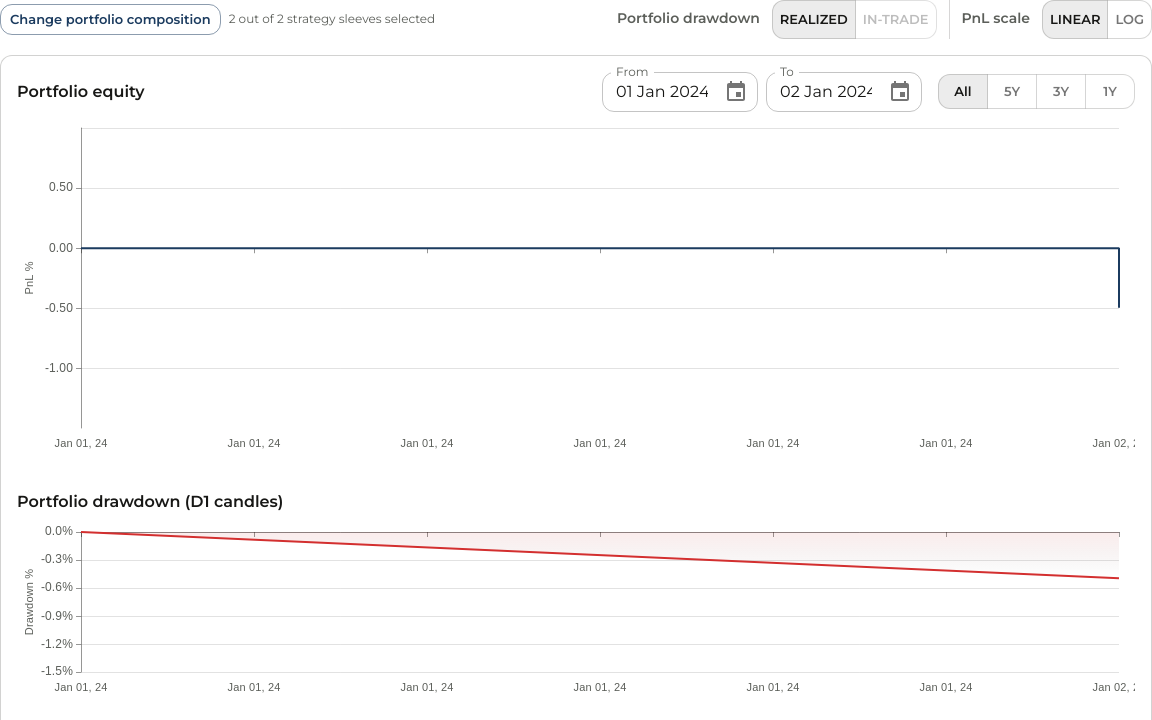
PortfolioTab › keeps composition draft edits from rerendering the portfolio charts
The width and height of the screenshot is (1152, 720).
Click the button "Change portfolio composition". click: (110, 19)
box: [0, 4, 221, 35]
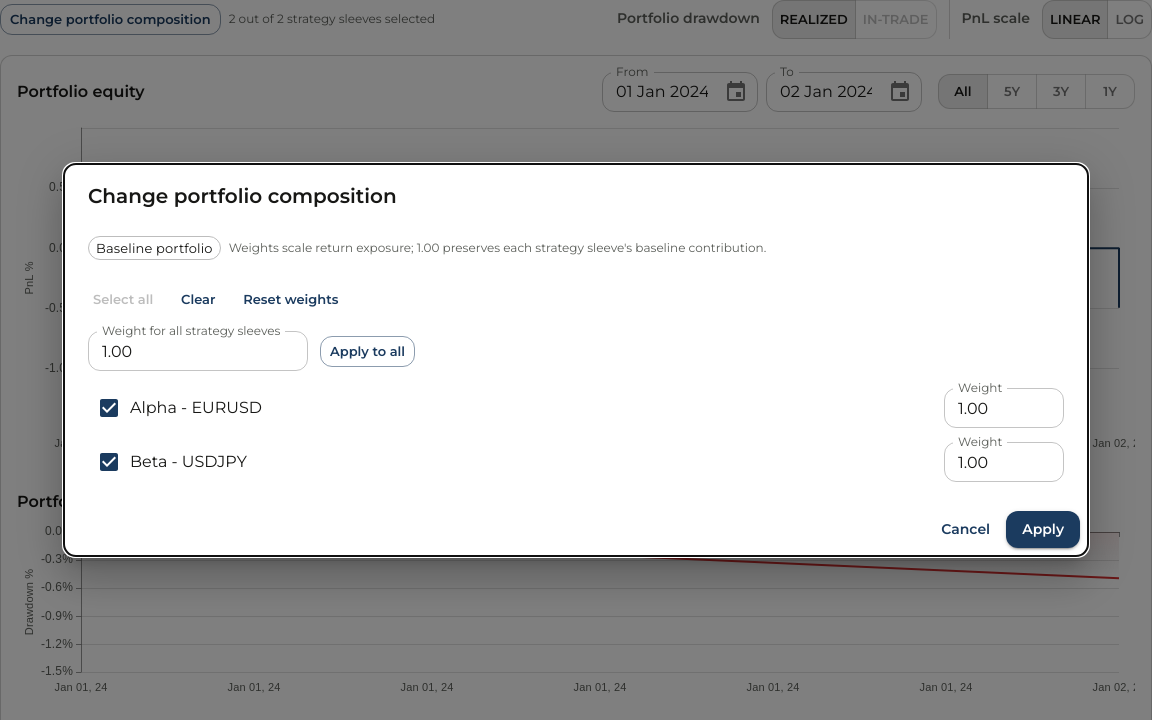
Replace the text in the 1st field labelled "Weight" with "1.25". click: (1004, 408)
box: [944, 388, 1064, 428]
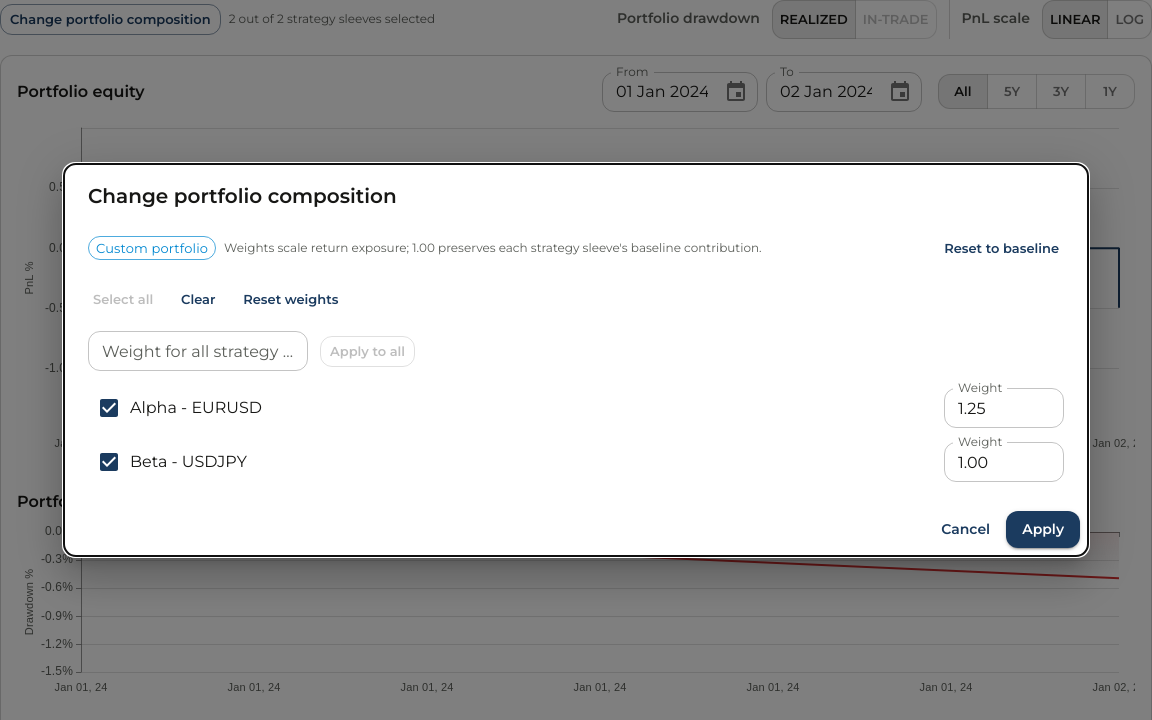
Click the button "Cancel". click: (966, 529)
box: [933, 511, 998, 548]
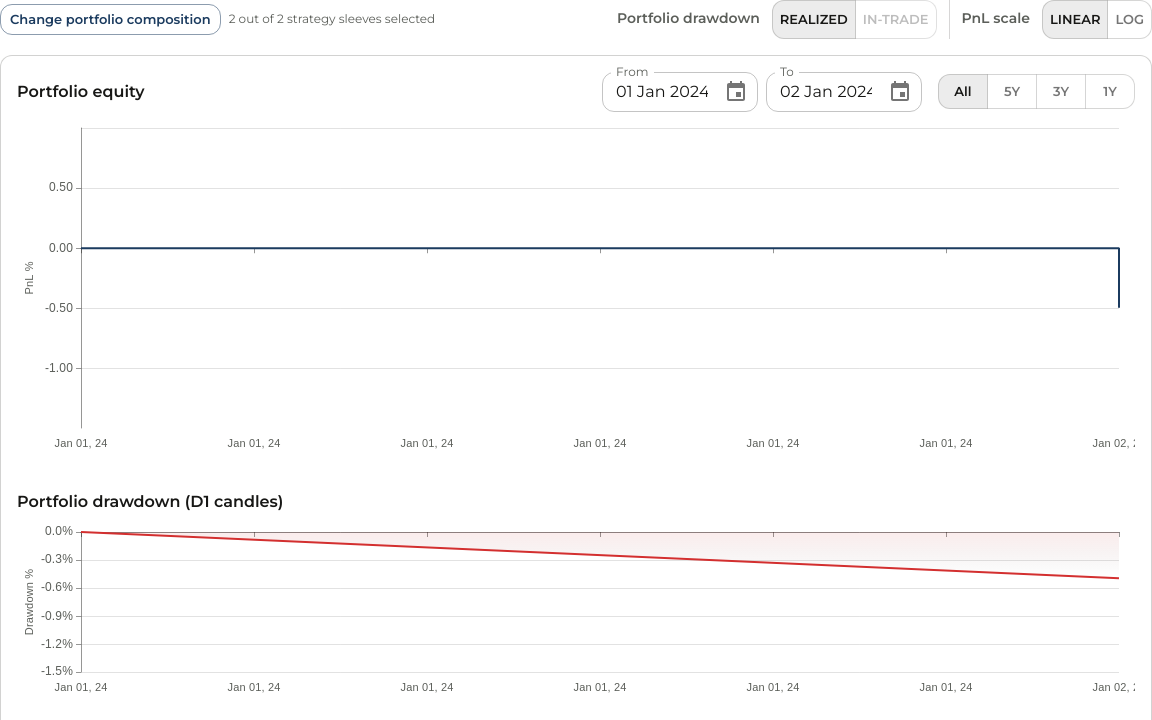
Click the button "Change portfolio composition". click: (110, 19)
box: [0, 4, 221, 35]
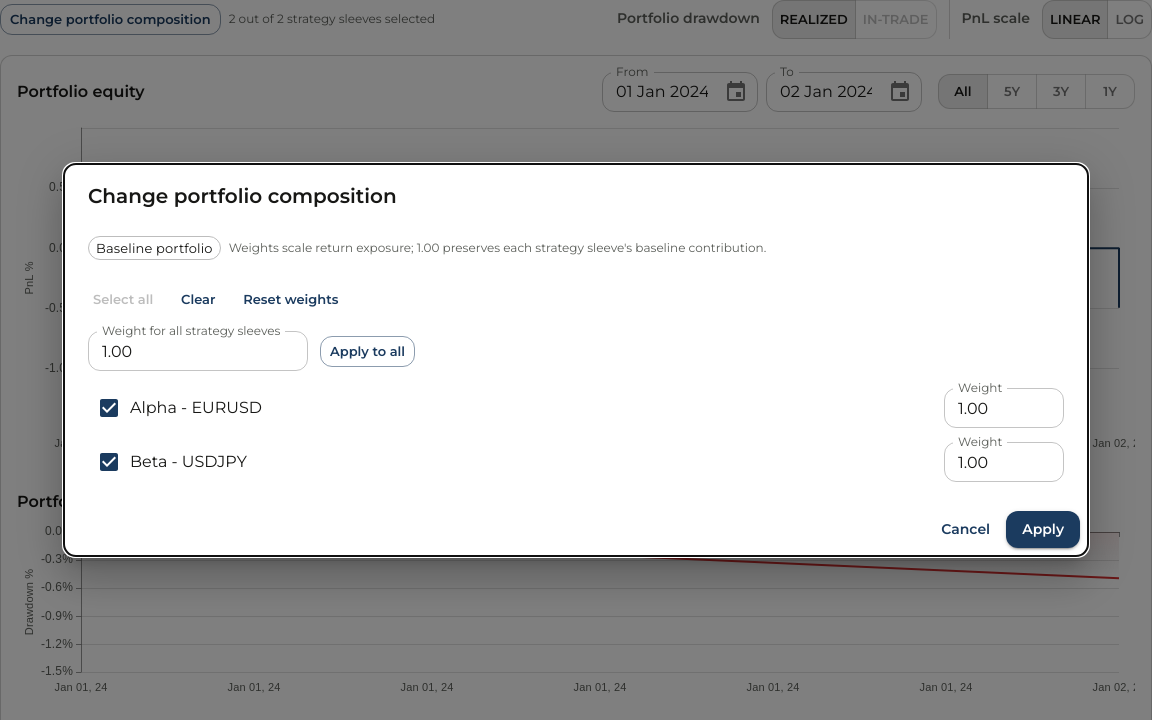
Now the 1st field labelled "Weight" holds "1.00", box [944, 388, 1064, 428]
